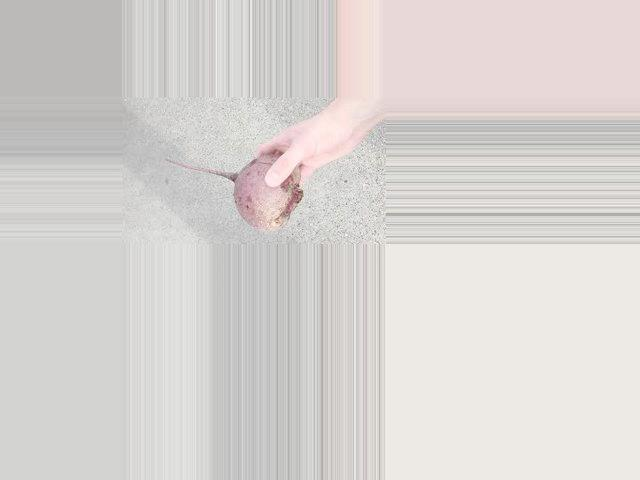beet: (166, 156, 303, 231)
